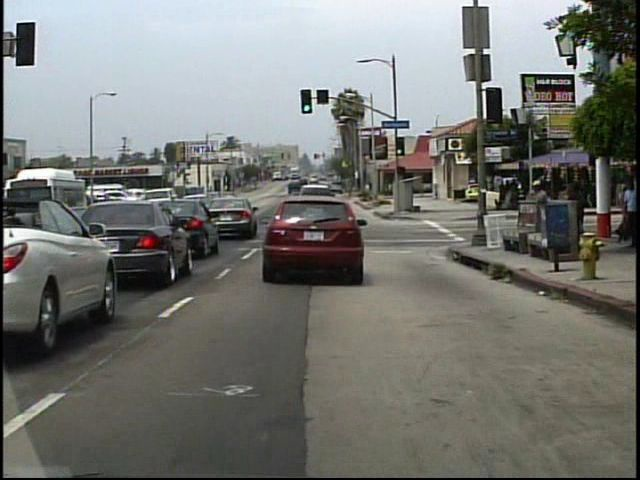person: (523, 177, 551, 246), (617, 180, 637, 250), (566, 178, 586, 247)
